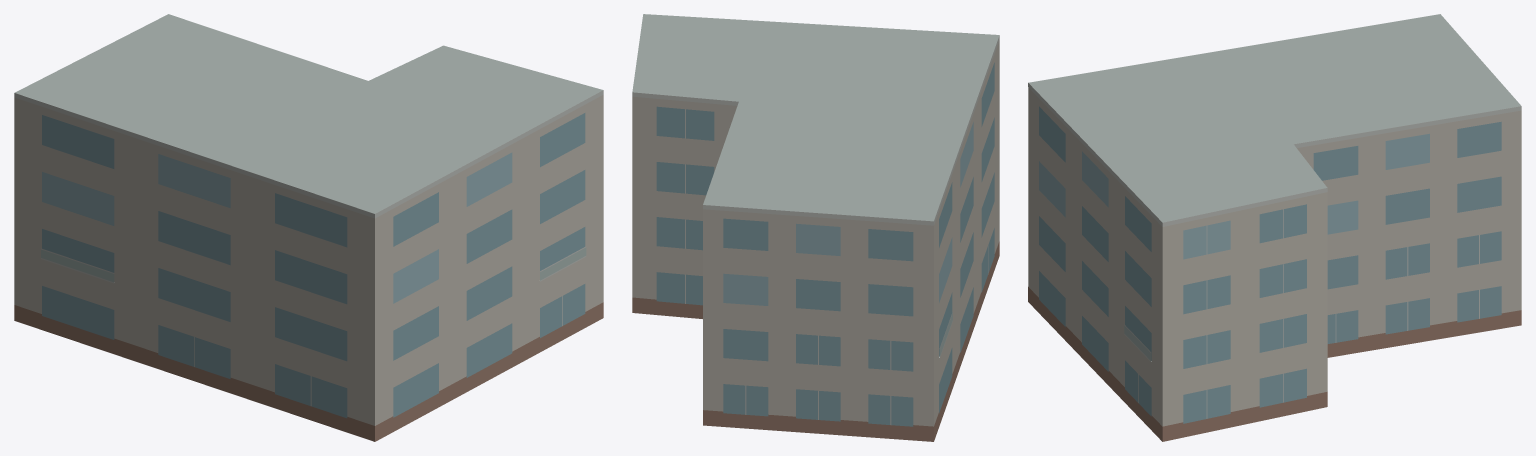
The model's file is survey-upis-32646446.glb.
The picture shows the model from 3 angles, left to right: view 1: azimuth 30°, elevation 25°; view 2: azimuth 150°, elevation 25°; view 3: azimuth 270°, elevation 25°; orthographic projection. The views are drawn at different scales.
Visible parts, largest first — view 1: survey-upis-32646446.tmp; view 2: survey-upis-32646446.tmp; view 3: survey-upis-32646446.tmp.
Boxes of the visible parts, x1,y1,x2,y2 form: survey-upis-32646446.tmp: (14,14,603,441); survey-upis-32646446.tmp: (632,14,999,441); survey-upis-32646446.tmp: (1028,14,1521,441).
Size of the model in its own units: 25.34 by 12.4 by 25.32.
